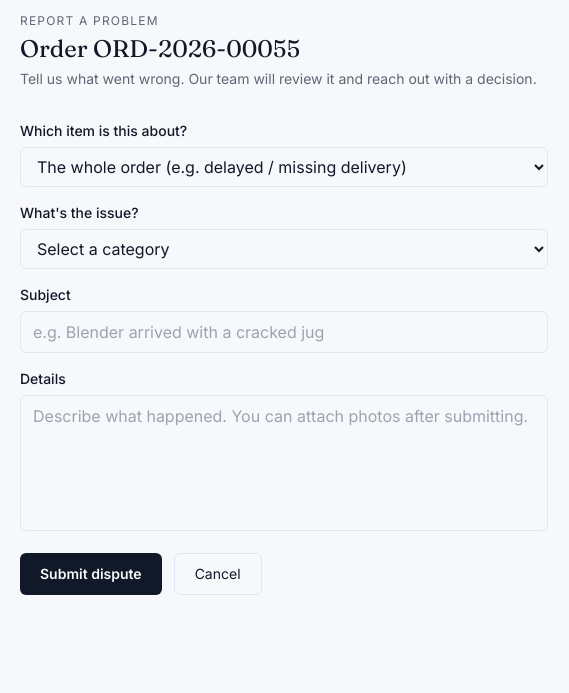
Test: NewDispute page - field errors › explains each missing required field, keeps the order untouched and focuses the first
Expected: the heading "Order ORD-2026-00055" is shown, [20, 34, 300, 63]
Click the button "Submit dispute".
click(91, 574)  # box [20, 553, 162, 595]
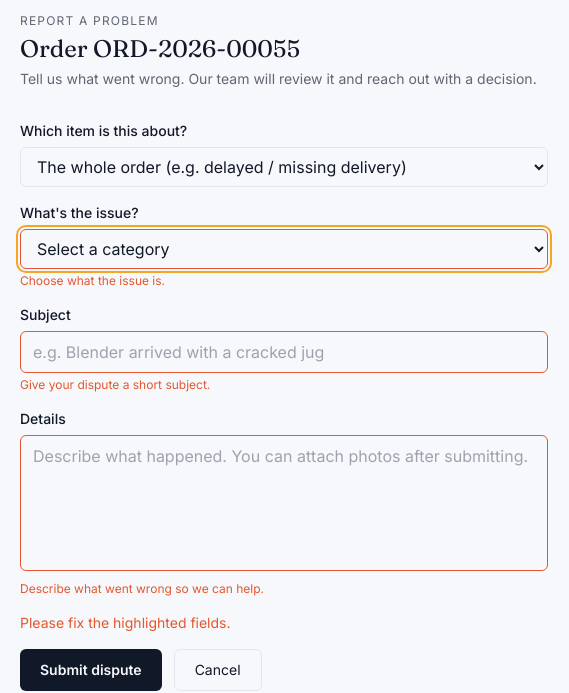
Result: the text "Give your dispute a short subject." is shown at [20, 377, 210, 392]
Result: the text "Describe what went wrong so we can help." is shown at [20, 581, 264, 596]
